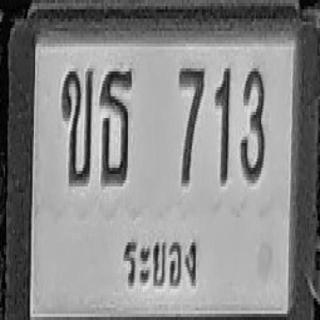A02: (62, 65, 93, 183)
A24: (100, 65, 132, 183)
N01: (215, 65, 231, 183)
N03: (240, 65, 265, 180)
N07: (178, 65, 204, 183)
P53: (121, 227, 200, 297)
